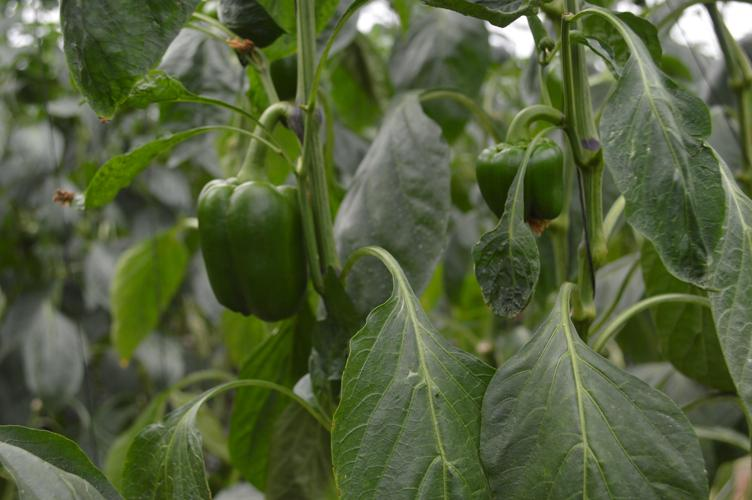BellPepper: (188, 166, 316, 321), (468, 122, 585, 232)
